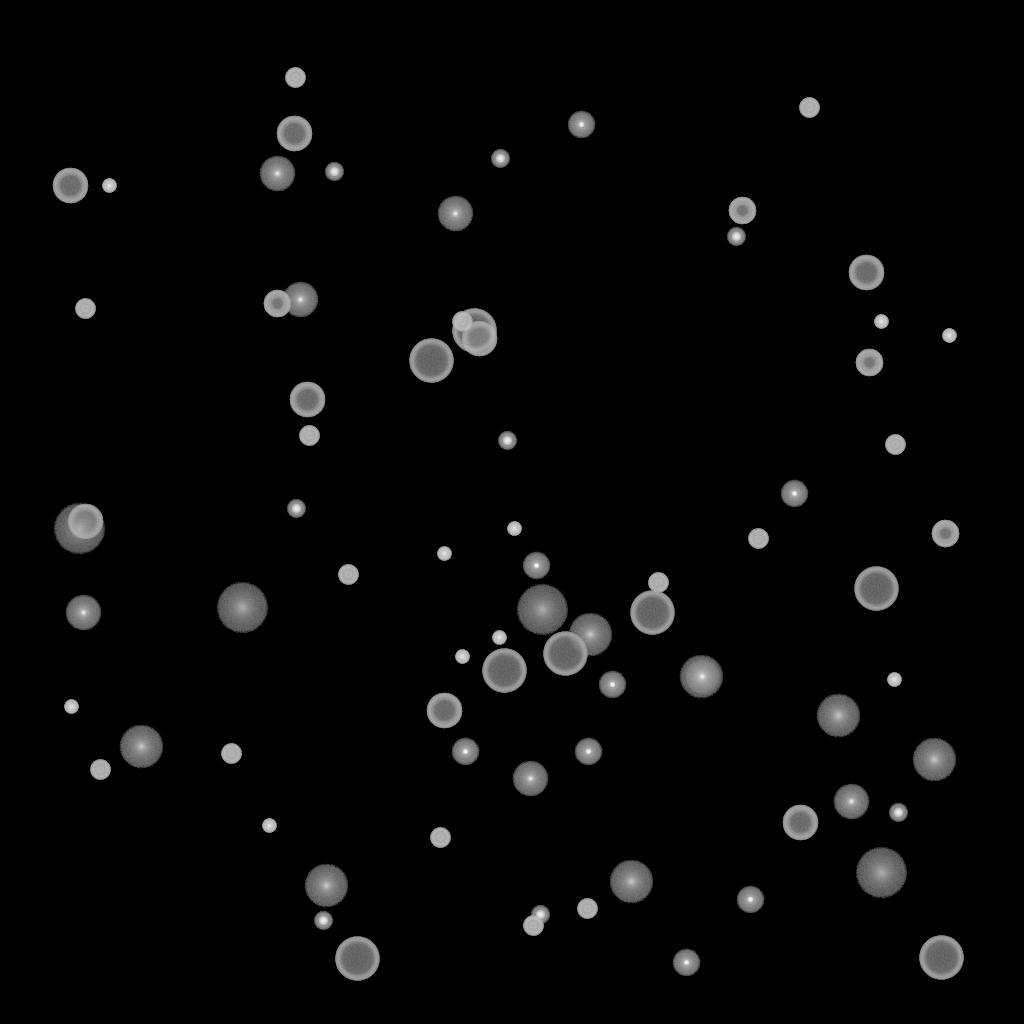depth:-10: (672, 949, 700, 977), (574, 738, 602, 766), (522, 552, 550, 580), (451, 738, 479, 766), (598, 671, 626, 699), (736, 886, 764, 914), (567, 111, 595, 139), (780, 480, 808, 508)
depth:-20: (498, 432, 516, 450), (531, 906, 549, 924), (727, 228, 745, 246), (325, 163, 343, 181), (889, 804, 907, 822), (287, 500, 305, 518), (491, 150, 509, 168), (314, 912, 332, 930)
depth:-30: (102, 179, 116, 193), (874, 315, 888, 329), (455, 650, 469, 664), (492, 631, 506, 645), (942, 329, 956, 343), (887, 673, 901, 687), (64, 700, 78, 714), (437, 547, 451, 561), (507, 522, 521, 536), (262, 819, 276, 833)
depth:-40: (523, 916, 543, 936), (452, 312, 472, 332), (75, 299, 95, 319), (338, 565, 358, 585), (748, 529, 768, 549), (577, 899, 597, 919), (90, 760, 110, 780), (285, 68, 305, 88), (648, 573, 668, 593), (799, 98, 819, 118), (299, 426, 319, 446), (430, 828, 450, 848), (221, 744, 241, 764), (885, 435, 905, 455)
depth:-50: (855, 349, 883, 377), (728, 197, 756, 225), (931, 520, 959, 548), (263, 290, 291, 318)
depth:-60: (52, 168, 88, 204), (67, 504, 103, 540), (461, 321, 497, 357), (782, 805, 818, 841), (289, 382, 325, 418), (848, 255, 884, 291), (426, 693, 462, 729), (276, 116, 312, 152)
depth:-70: (409, 339, 453, 383), (335, 937, 379, 981), (482, 649, 526, 693), (543, 632, 587, 676), (630, 591, 674, 635), (919, 936, 963, 980), (854, 567, 898, 611), (452, 309, 496, 353)
depth:0: (282, 282, 318, 318), (65, 595, 101, 631), (259, 156, 295, 192), (437, 196, 473, 232), (684, 659, 720, 695), (833, 784, 869, 820), (512, 761, 548, 797)
depth:10: (568, 613, 612, 657), (609, 860, 653, 904), (119, 725, 163, 769), (679, 655, 723, 699), (304, 864, 348, 908), (816, 694, 860, 738), (912, 738, 956, 782)
depth:20: (516, 585, 568, 635), (53, 504, 105, 554), (855, 848, 907, 898), (216, 583, 268, 633)
